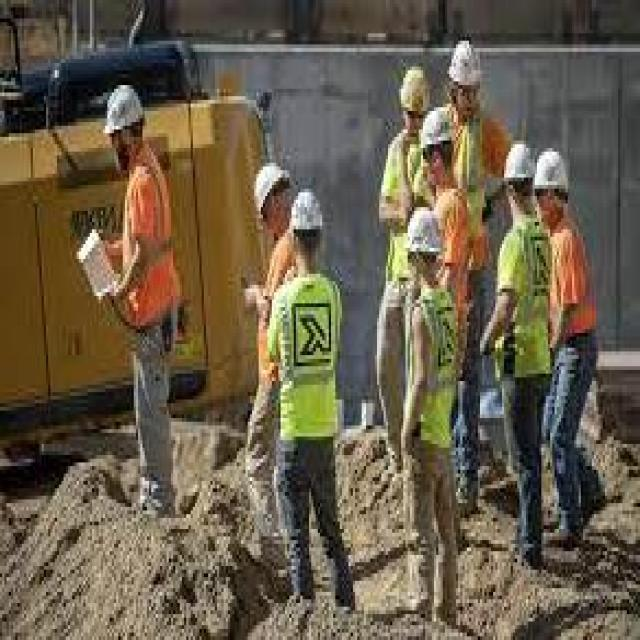Reflective-Jacket: (265, 262, 353, 462), (114, 140, 184, 340), (489, 214, 561, 396), (370, 126, 430, 303), (539, 214, 603, 359)
Safety-Helmet: (243, 152, 296, 226), (281, 178, 333, 252), (96, 74, 149, 144), (399, 200, 449, 270), (528, 141, 579, 207), (390, 55, 434, 126), (443, 30, 489, 96), (414, 100, 462, 159), (498, 130, 539, 196)
